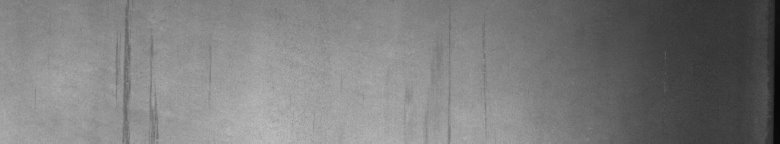ka: (116, 7, 160, 136)
